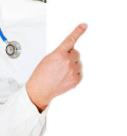up: (33, 19, 89, 102)
